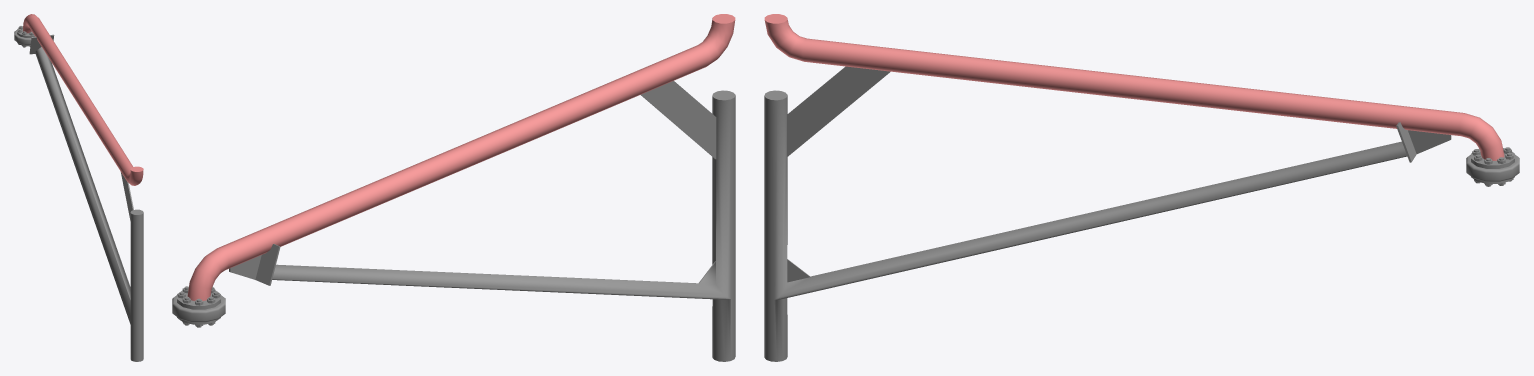
File: SM_SUG_All_Left.gltf
3 renders of one model, left to right at view 1: azimuth 30°, elevation 25°; view 2: azimuth 150°, elevation 25°; view 3: azimuth 270°, elevation 25°, orthographic. The views are drawn at different scales.
Parts seen in each view (by area): view 1: SM_SUG_All_Left; view 2: SM_SUG_All_Left; view 3: SM_SUG_All_Left.
Part boxes in pixels (box(x1,y1,x2,y2)): SM_SUG_All_Left: box(14, 14, 143, 361); SM_SUG_All_Left: box(172, 14, 735, 361); SM_SUG_All_Left: box(764, 14, 1519, 361).
Bounding box in the file's own units: 0.4275 × 0.6922 × 1.4.
